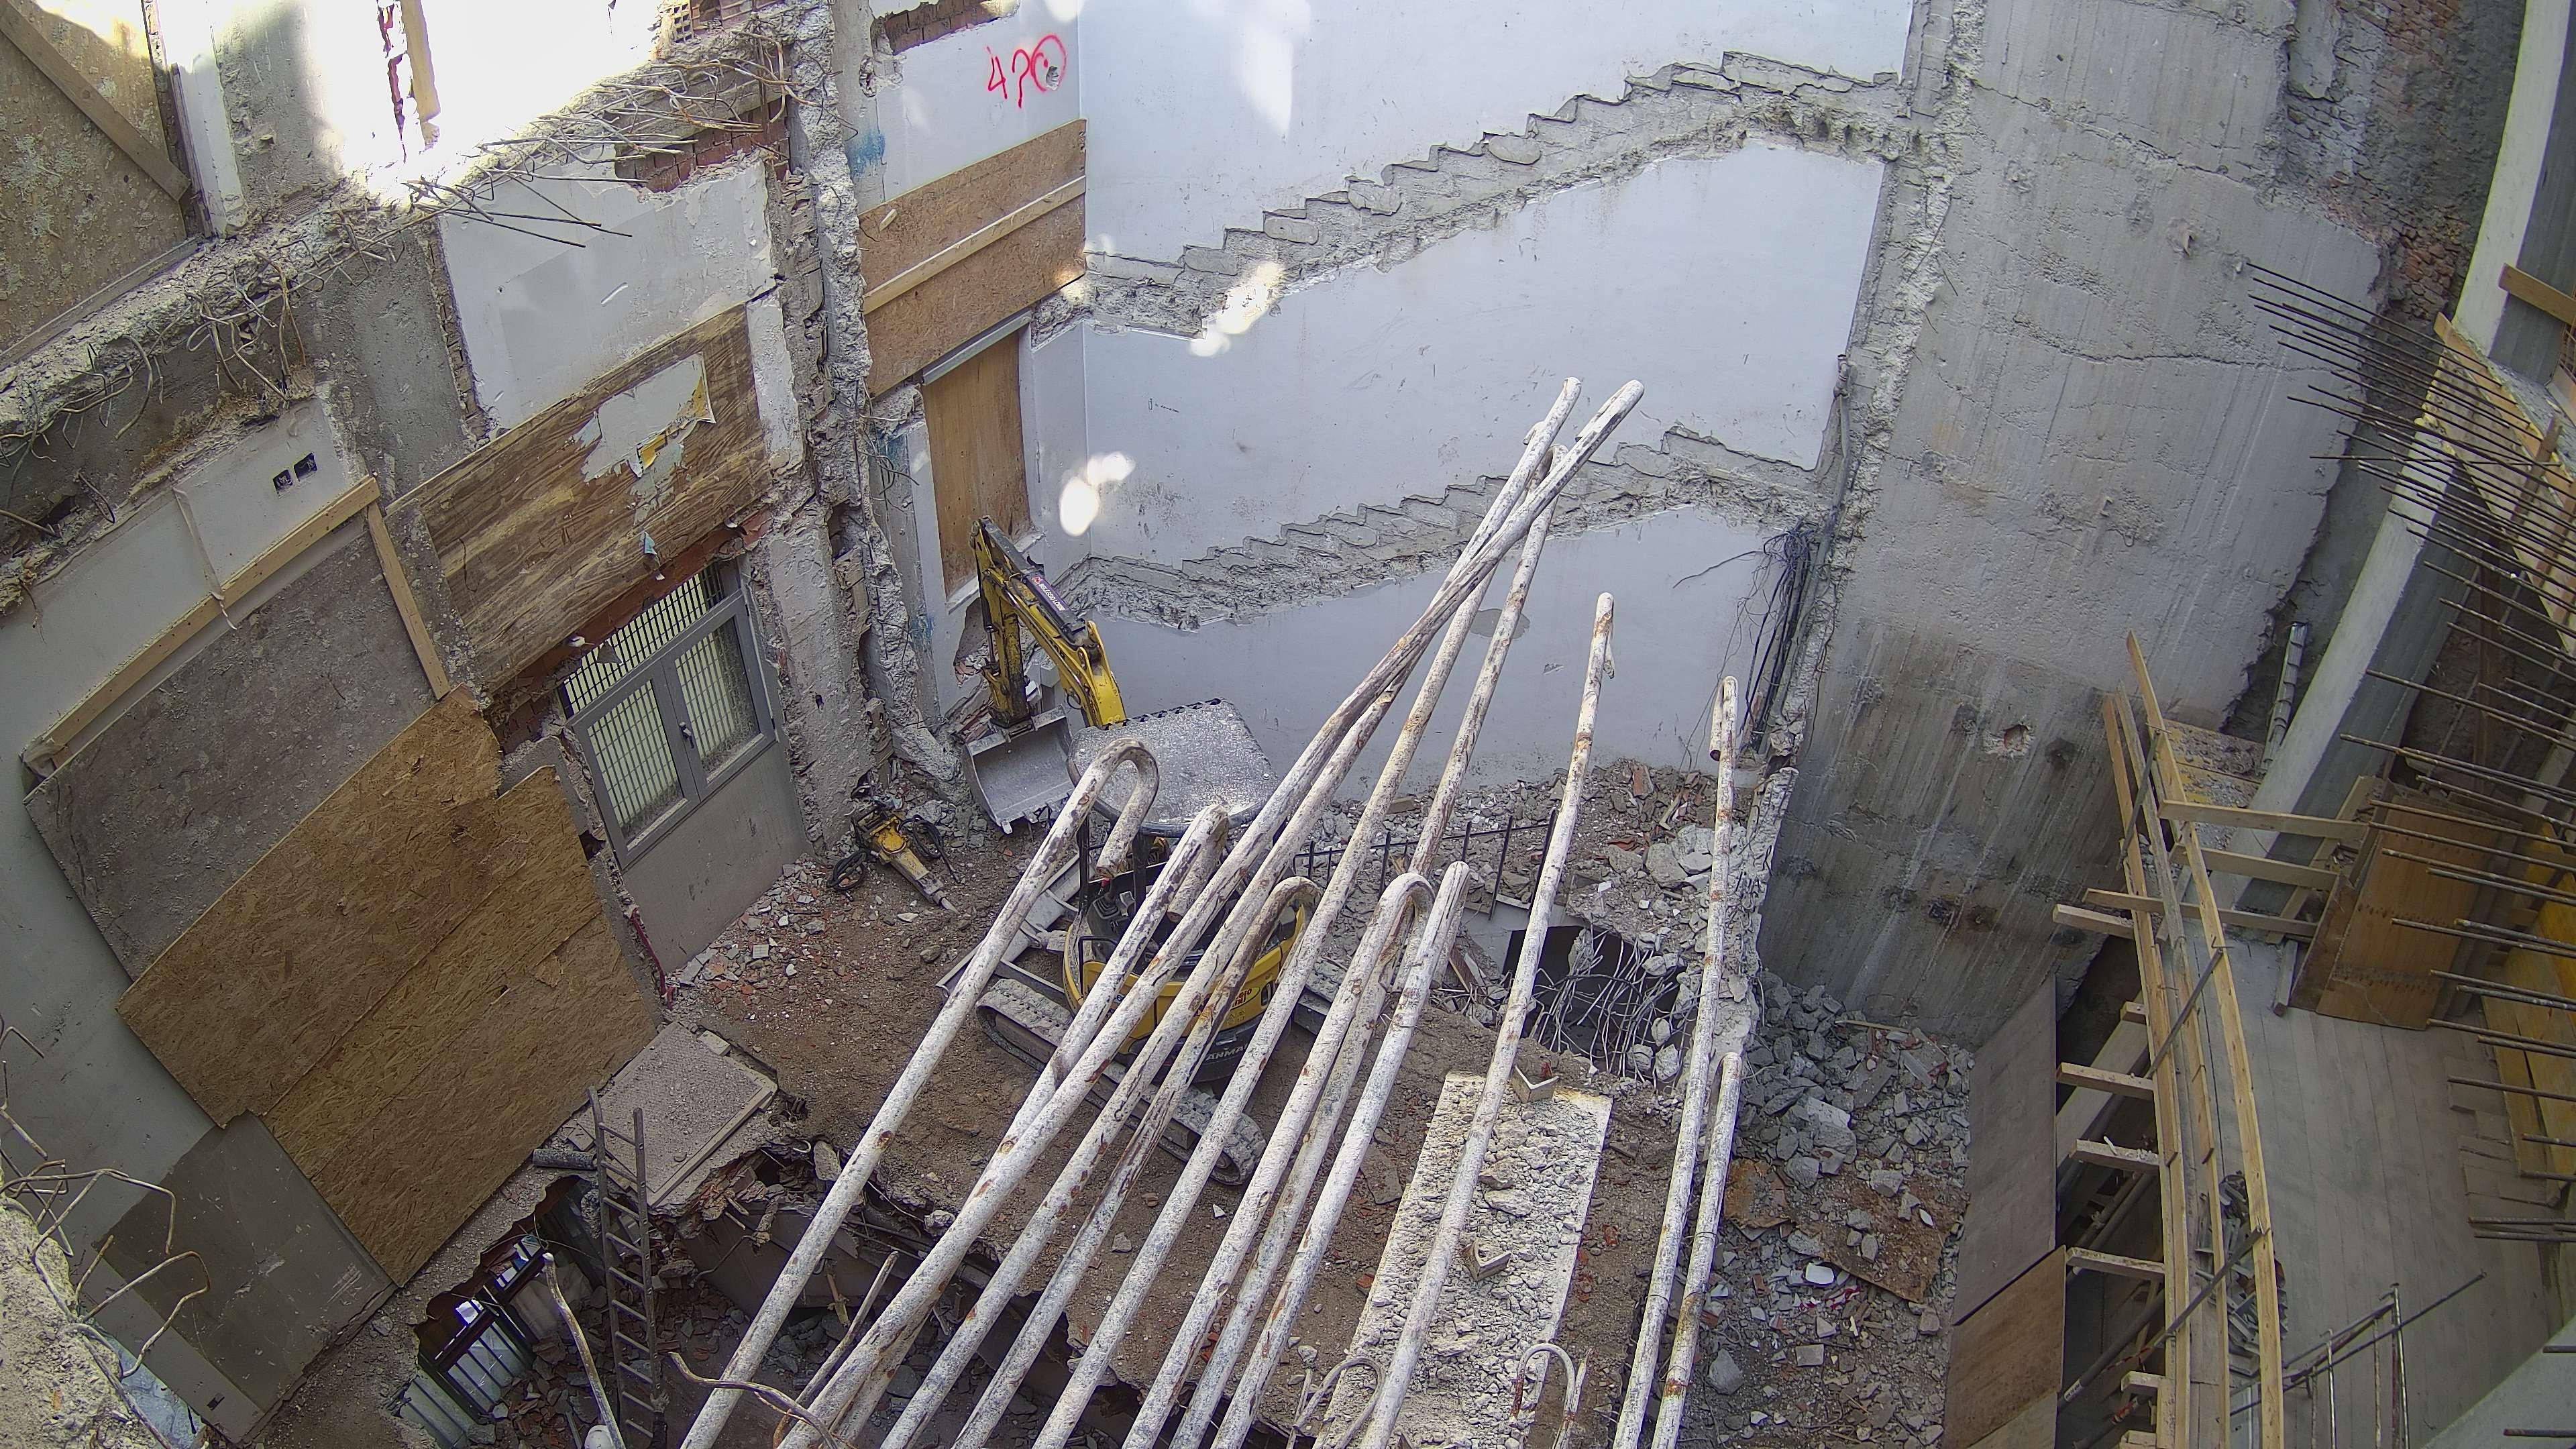excavator: (941, 522, 1343, 1182)
